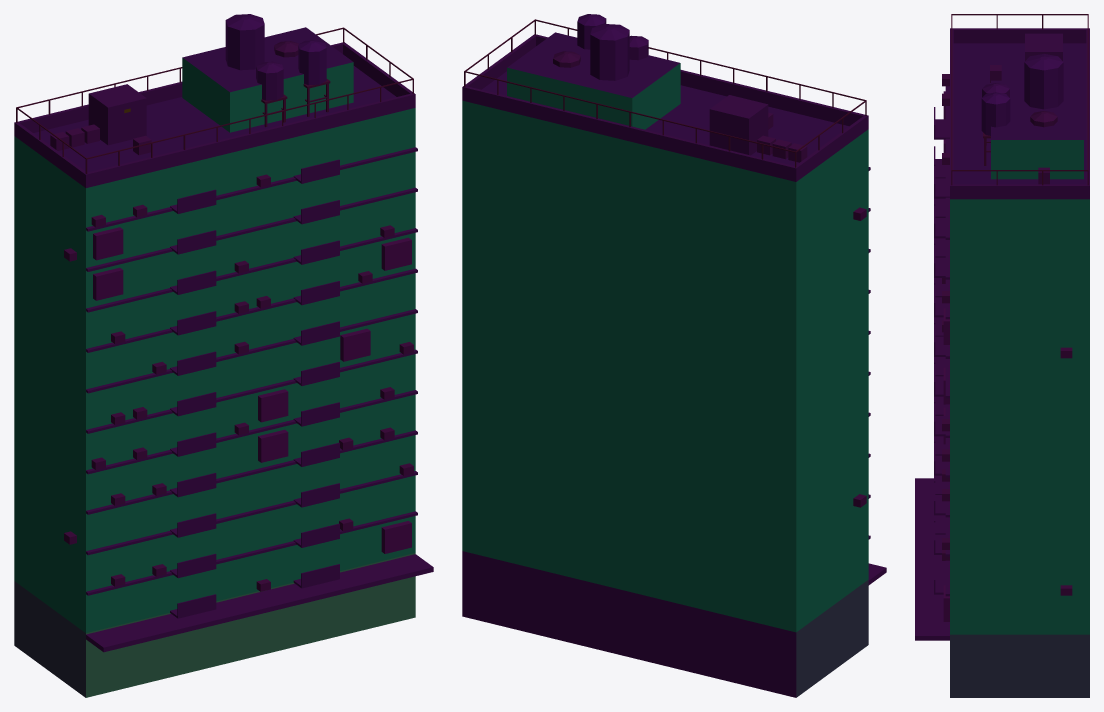
File: slab_f.glb
The picture shows the model from 3 angles, left to right: view 1: azimuth 30°, elevation 25°; view 2: azimuth 150°, elevation 25°; view 3: azimuth 270°, elevation 25°; orthographic projection. The views are drawn at different scales.
Parts seen in each view (by area): view 1: slab_f; view 2: slab_f; view 3: slab_f.
Boxes of the visible parts, <box> form: slab_f: <box>14,14,433,697</box>; slab_f: <box>462,14,886,697</box>; slab_f: <box>915,14,1089,697</box>.
Bounding box in the file's own units: 26.7 × 44.05 × 12.
